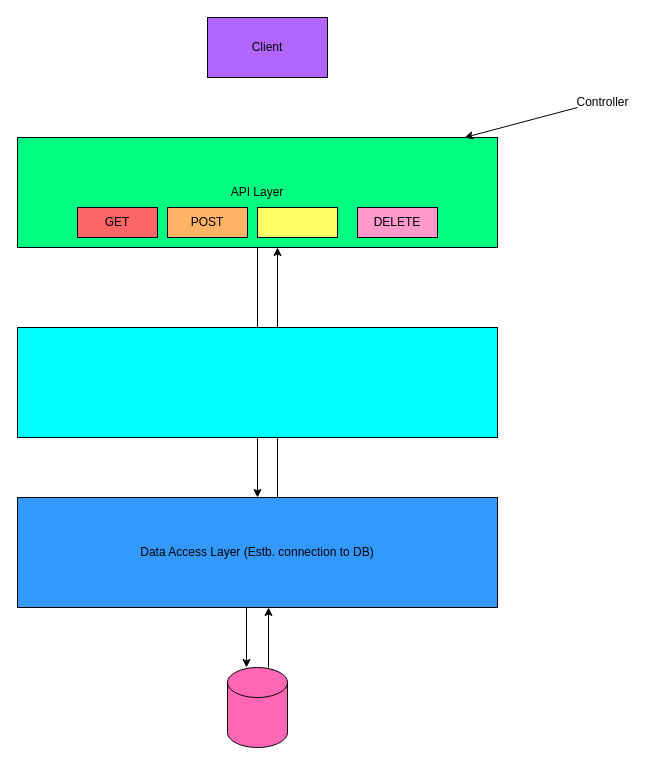
Image size: 660x765. Some labels were removed from this diagram. Each missing label, with the centre of its shape:
"DB" goes at (257,707).
"PUT" goes at (297,222).
"Service Layer (Business Logic)" goes at (257,382).
